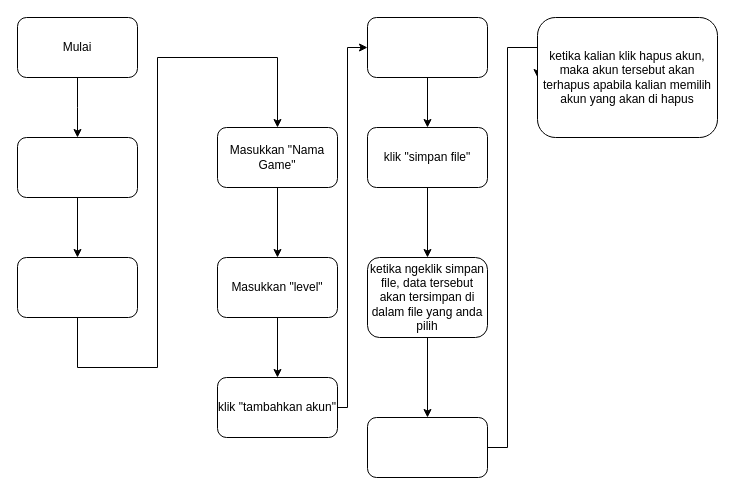
Some shapes in this 735 by 495 pixel diagram are drawn without their labels. Here are the shapes that lost their labels. From the top down, the centre of each, then its label:
point 427,47: akan menampilkan data yang telah di "tambahkan akun"
point 77,167: KLIK "Run"
point 77,287: menampilkan Tabel seperti "username", "naama game", "level", dan lain lain
point 427,447: klik "hapus akun"
